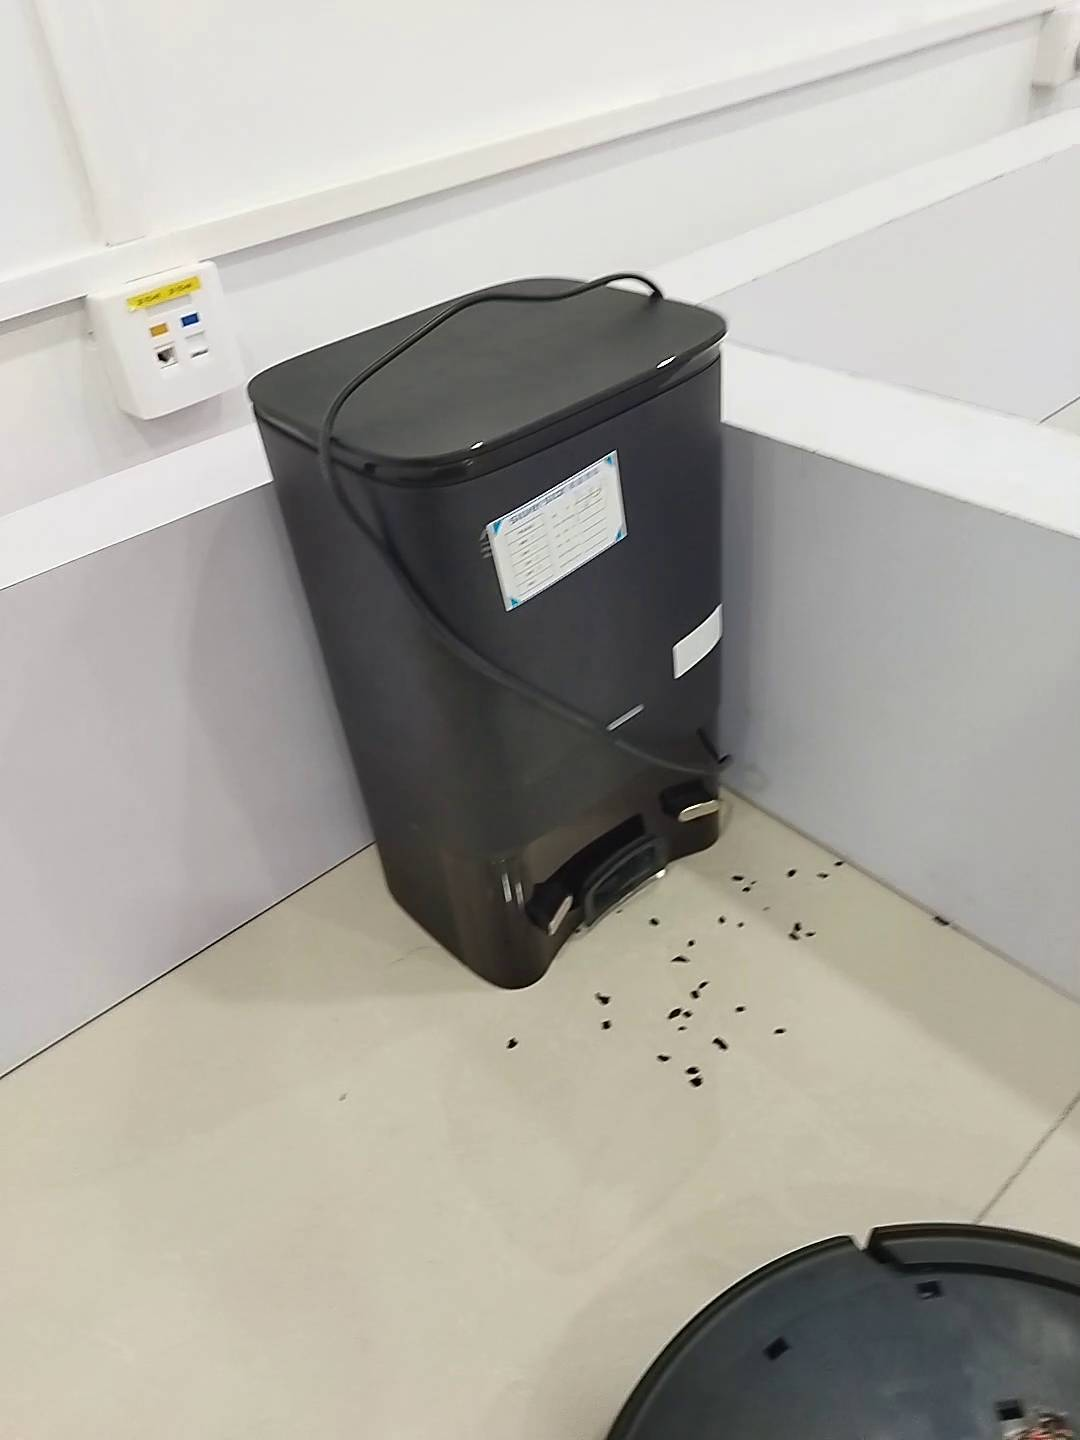dust collecting barrel: (244, 276, 735, 988)
